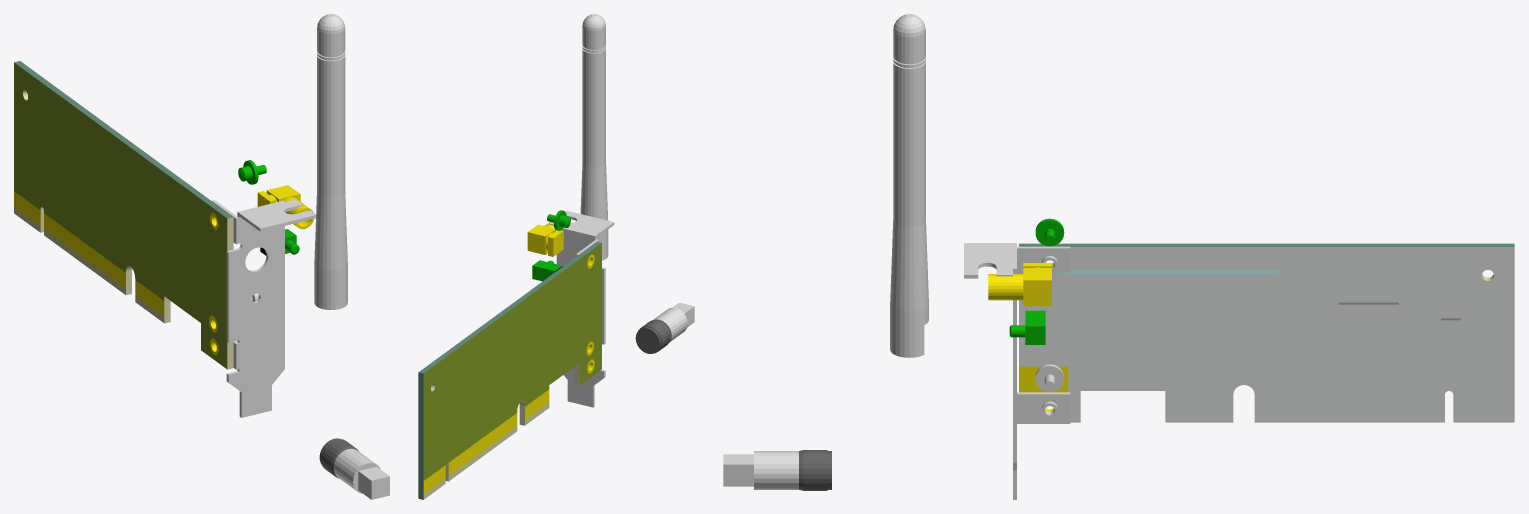
3 renders of one model, left to right at view 1: azimuth 30°, elevation 25°; view 2: azimuth 150°, elevation 25°; view 3: azimuth 270°, elevation 25°, orthographic. The views are drawn at different scales.
Parts seen in each view (by area): view 1: imagetostl_mesh1242, imagetostl_mesh356, imagetostl_mesh1180, imagetostl_mesh1100, imagetostl_mesh191, imagetostl_mesh1021, imagetostl_mesh1101, imagetostl_mesh789, imagetostl_mesh843, imagetostl_mesh926, imagetostl_mesh1133, imagetostl_mesh1243 (+1 smaller); view 2: imagetostl_mesh1242, imagetostl_mesh359, imagetostl_mesh1180, imagetostl_mesh1100, imagetostl_mesh1185, imagetostl_mesh191, imagetostl_mesh694, imagetostl_mesh822, imagetostl_mesh960, imagetostl_mesh1018, imagetostl_mesh1101, imagetostl_mesh589 (+6 smaller); view 3: imagetostl_mesh1256, imagetostl_mesh1244, imagetostl_mesh1251, imagetostl_mesh1180, imagetostl_mesh191, imagetostl_mesh301, imagetostl_mesh341.
Boxes of the visible parts, box(x1,y1,x2,y2) form: imagetostl_mesh1242: box(14, 62, 227, 368); imagetostl_mesh356: box(228, 216, 284, 417); imagetostl_mesh1180: box(14, 61, 232, 218); imagetostl_mesh1100: box(44, 213, 125, 288); imagetostl_mesh191: box(238, 199, 315, 228); imagetostl_mesh1021: box(334, 60, 338, 196); imagetostl_mesh1101: box(44, 229, 125, 294); imagetostl_mesh789: box(324, 60, 327, 196); imagetostl_mesh843: box(331, 61, 334, 196); imagetostl_mesh926: box(327, 61, 330, 196); imagetostl_mesh1133: box(135, 280, 164, 316); imagetostl_mesh1243: box(14, 191, 40, 225); imagetostl_mesh1242: box(423, 243, 601, 480); imagetostl_mesh359: box(556, 228, 603, 407); imagetostl_mesh1180: box(419, 241, 601, 373); imagetostl_mesh1100: box(448, 413, 517, 475); imagetostl_mesh1185: box(418, 372, 423, 499); imagetostl_mesh191: box(550, 210, 613, 235); imagetostl_mesh694: box(635, 328, 659, 353); imagetostl_mesh822: box(594, 53, 597, 167); imagetostl_mesh960: box(588, 53, 591, 166); imagetostl_mesh1018: box(591, 53, 594, 167); imagetostl_mesh1101: box(448, 426, 517, 480); imagetostl_mesh589: box(527, 232, 545, 254); imagetostl_mesh1256: box(1019, 247, 1514, 422); imagetostl_mesh1244: box(1057, 273, 1278, 343); imagetostl_mesh1251: box(1338, 304, 1398, 360); imagetostl_mesh1180: box(1019, 243, 1514, 246); imagetostl_mesh191: box(964, 243, 1016, 274); imagetostl_mesh301: box(1017, 394, 1070, 423); imagetostl_mesh341: box(1017, 248, 1070, 277).
Size of the model in its own units: 98.43 by 522 by 761.
